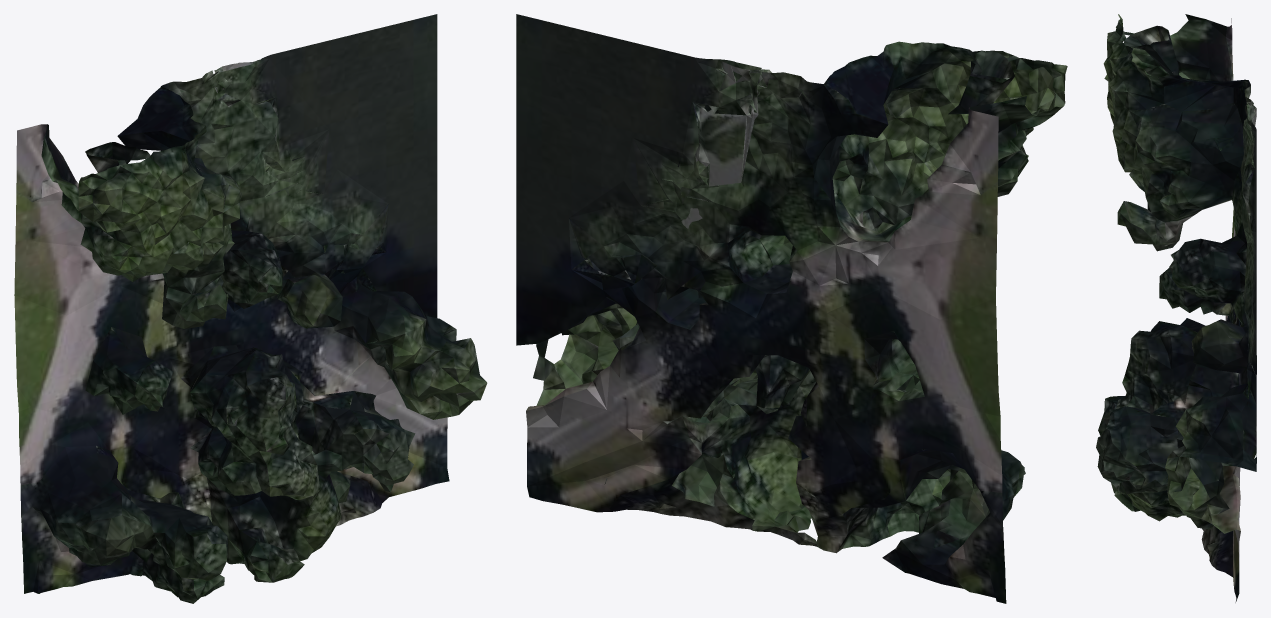
File: Tile_+031_+024_L18_00013.obj
3 renders of one model, left to right at view 1: azimuth 30°, elevation 25°; view 2: azimuth 150°, elevation 25°; view 3: azimuth 270°, elevation 25°, orthographic. The views are drawn at different scales.
Bounding box in the file's own units: 63 × 63.5 × 22.97.
1 material, 1 textured.
